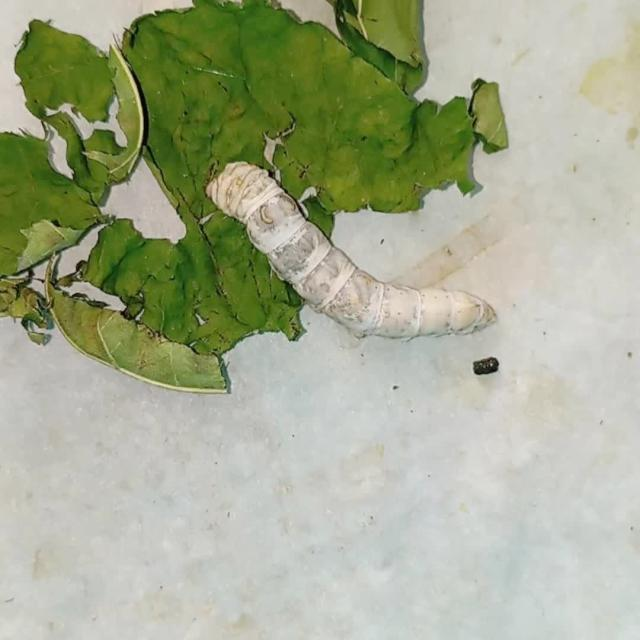Grasserie: (175, 124, 521, 362)
